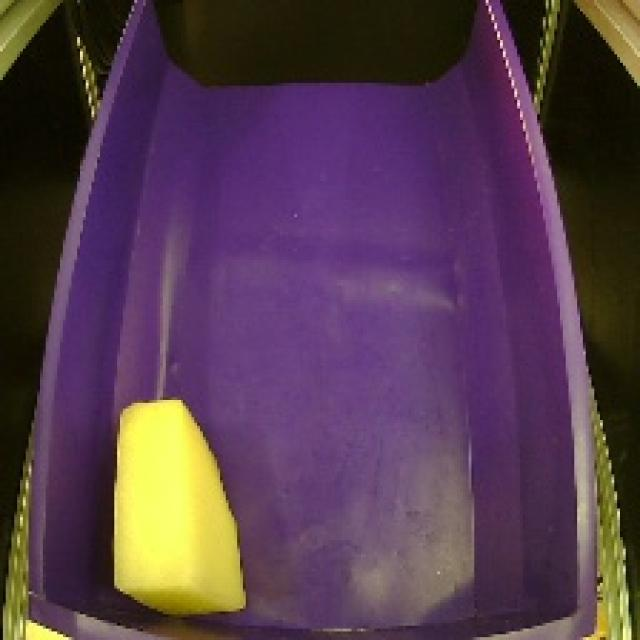potato: (104, 389, 255, 623)
